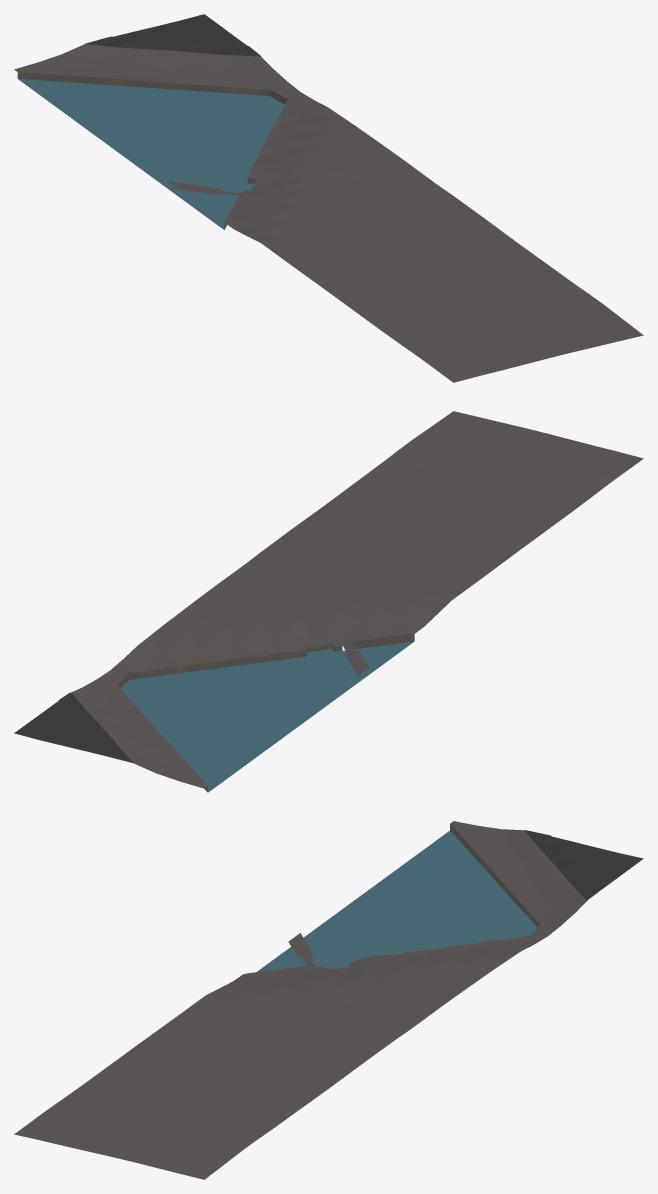
3 renders of one model, top to bottom at view 1: azimuth 30°, elevation 25°; view 2: azimuth 150°, elevation 25°; view 3: azimuth 330°, elevation 25°, orthographic.
Parts seen in each view (by area): view 1: c_p06_m12, append:c_p06_m12; view 2: c_p06_m12, append:c_p06_m12; view 3: c_p06_m12, append:c_p06_m12.
Part boxes in pixels (x1,y1,x2,y2): c_p06_m12: (14,14,643,382); append:c_p06_m12: (17,72,287,229); c_p06_m12: (14,411,643,792); append:c_p06_m12: (117,634,414,792); c_p06_m12: (14,821,643,1179); append:c_p06_m12: (351,824,540,965).
Size of the model in its own units: 32 by 2.84 by 128.
